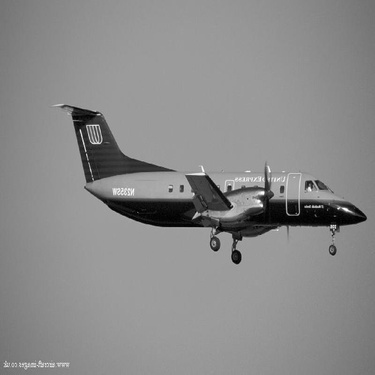airplane: (54, 94, 369, 265)
